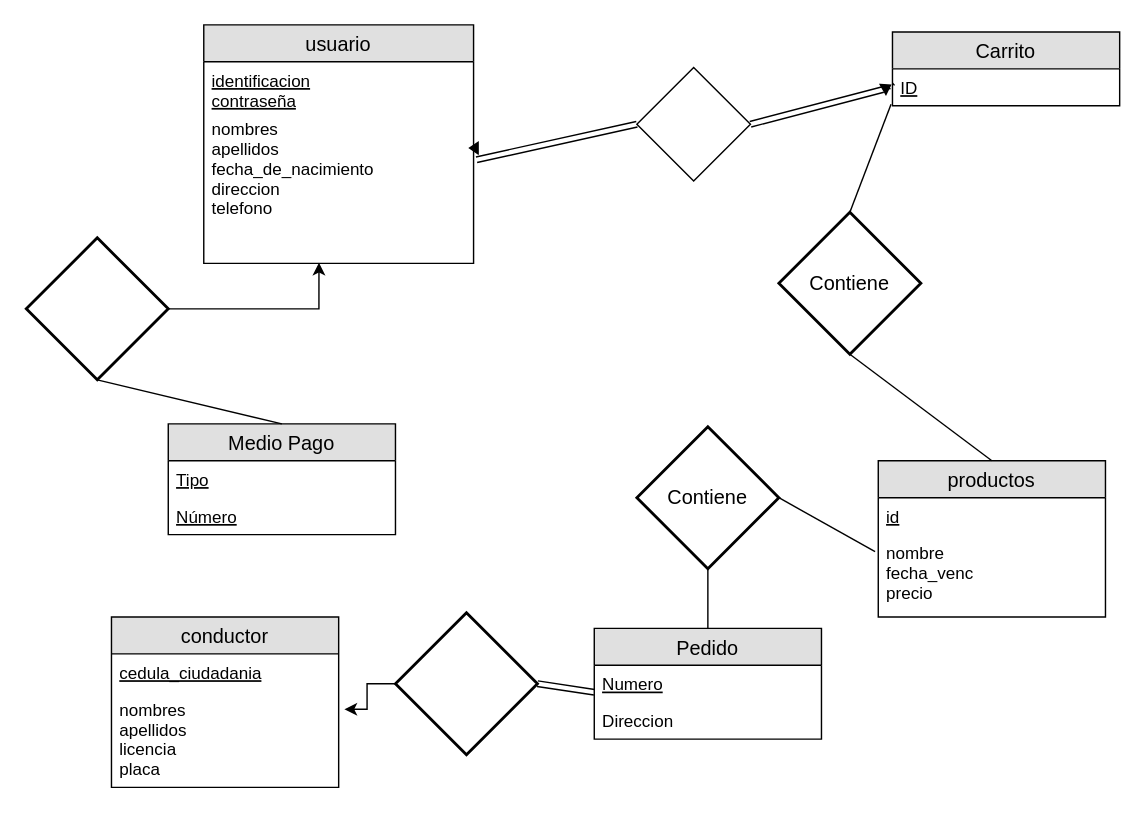
Some shapes in this 1145 by 817 pixel diagram are drawn without their labels. The centre of each missing label's shape, as x and y in pixels:
Pertenece: the point at 692,123
Tiene: the point at 96,308
Transporta: the point at 465,683
